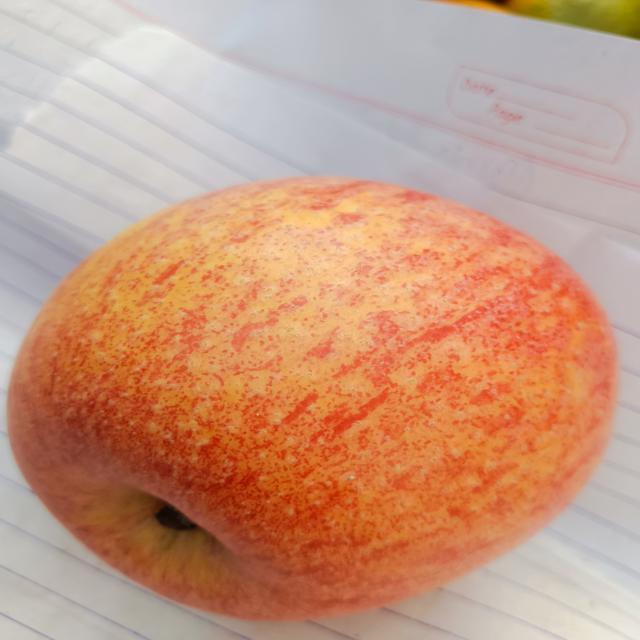Fresh Apple: (20, 180, 602, 610)
